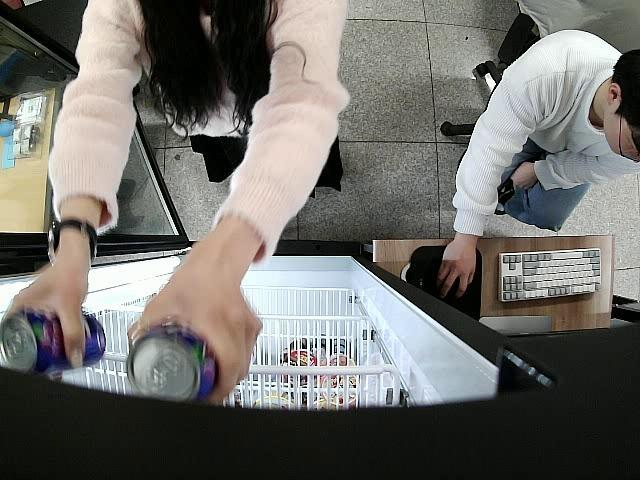14_welchsGrape: (124, 324, 220, 404), (2, 308, 105, 376)
